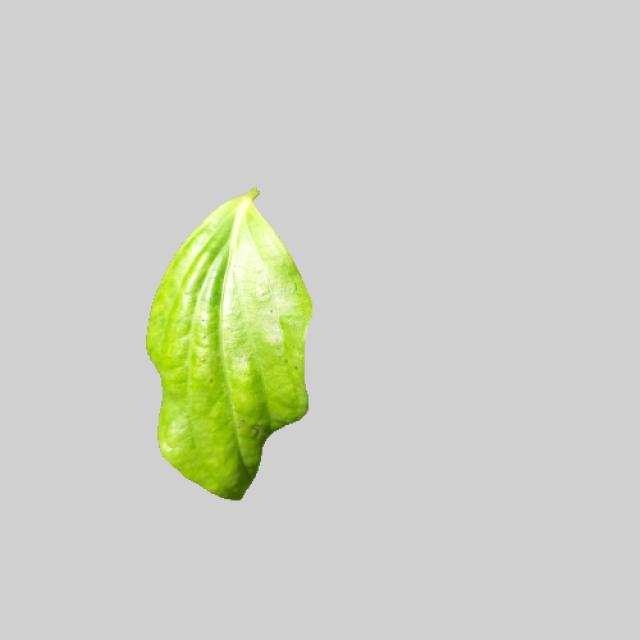yellow-mottle-virus: (142, 185, 310, 496)
